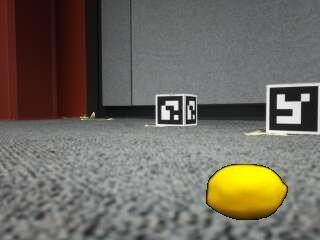lemon: (207, 164, 286, 219)
